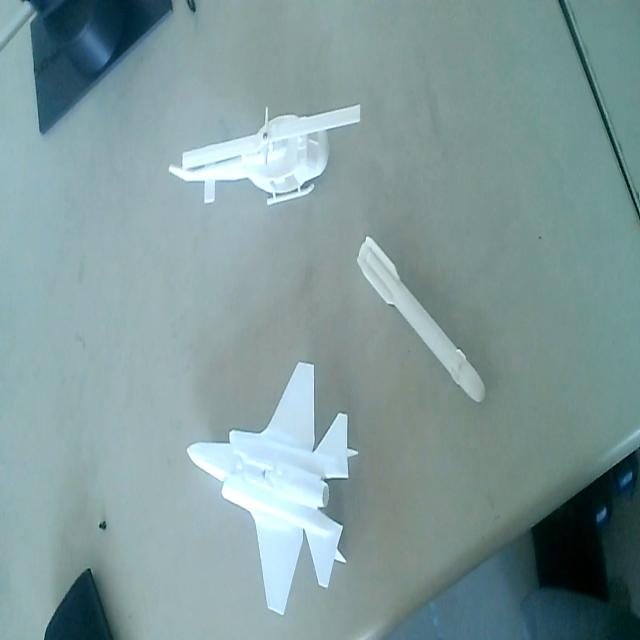Helicopter: (160, 98, 366, 214)
Jet: (184, 356, 359, 624)
Rocket: (355, 227, 491, 407)
